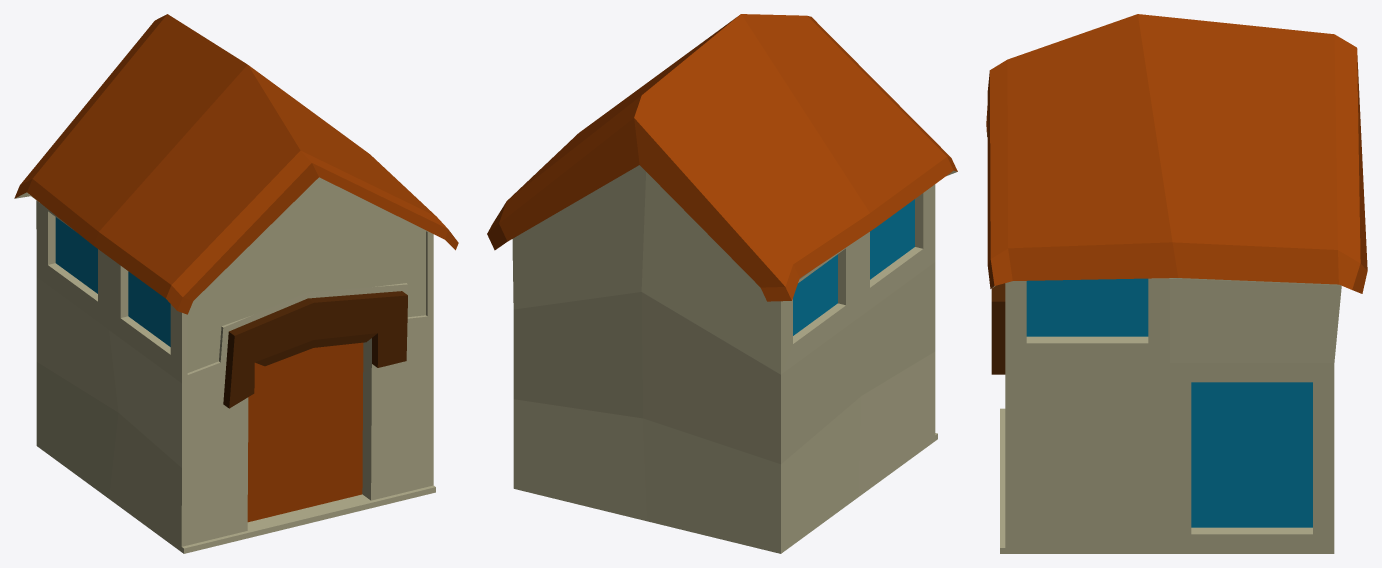
File: House_V1.fbx
3 renders of one model, left to right at view 1: azimuth 30°, elevation 25°; view 2: azimuth 150°, elevation 25°; view 3: azimuth 270°, elevation 25°, orthographic. The views are drawn at different scales.
Parts seen in each view (by area): view 1: Cube; view 2: Cube; view 3: Cube.
Part boxes in pixels (x1=…): Cube: x1=14, y1=14, x2=458, y2=553; Cube: x1=487, y1=14, x2=957, y2=553; Cube: x1=986, y1=14, x2=1367, y2=553.
Size of the model in its own units: 3.3 by 4.49 by 3.3.
